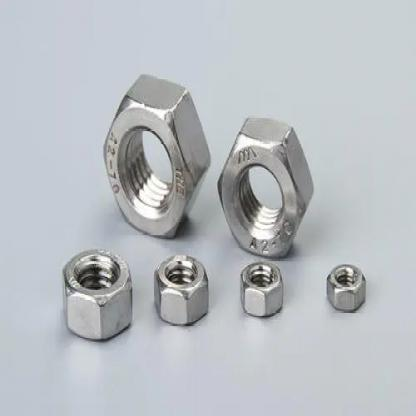FOD: (97, 73, 209, 242), (215, 97, 317, 258), (59, 244, 139, 344), (150, 250, 210, 326), (238, 260, 288, 324), (323, 257, 373, 316)
